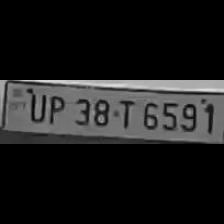1: (200, 100, 220, 134)
3: (68, 93, 92, 127)
5: (158, 98, 178, 132)
6: (138, 98, 158, 132)
8: (90, 96, 114, 128)
9: (177, 99, 197, 133)
P: (43, 92, 67, 126)
T: (113, 96, 137, 130)
U: (23, 90, 44, 124)
